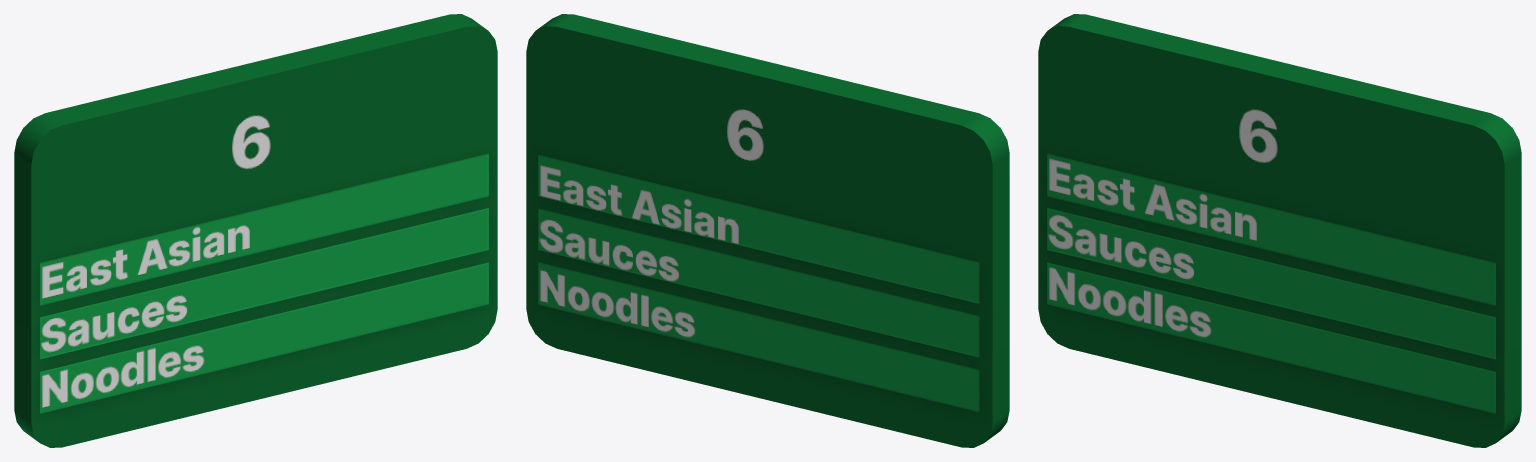
File: aisle6.fbx
3 views of the same model, side by side, from view 1: azimuth 30°, elevation 25°; view 2: azimuth 150°, elevation 25°; view 3: azimuth 330°, elevation 25° (orthographic).
Parts seen in each view (by area): view 1: pCube1; view 2: pCube1; view 3: pCube1.
Boxes of the visible parts, x1=… form: pCube1: x1=14, y1=14, x2=497, y2=447; pCube1: x1=526, y1=14, x2=1009, y2=447; pCube1: x1=1038, y1=14, x2=1521, y2=447.
Size of the model in its own units: 15.9 by 10.49 by 1.
